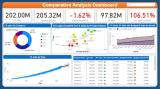

Layout of this report page (visuals, bound fields, positions):
{"tool":"powerbi","page":{"name":"Dashboard","canvas":[1280,720],"ordinal":0},"visuals":[{"type":"card","fields":{"Values":["Sales.YoY sales Growth%"]},"box":[1023.3,71.7,230,106.7],"z":0},{"type":"card","fields":{"Values":["Sales.CY sales"]},"box":[26.6,71.8,229.6,106.2],"z":1000},{"type":"card","fields":{"Values":["Sales.Budgeted Sales"]},"box":[275,71.7,230,106.7],"z":2000},{"type":"card","fields":{"Values":["Sales.Budget Variance%"]},"box":[525,71.7,230,106.7],"z":3000},{"type":"card","fields":{"Values":["Sales.PY sales"]},"box":[775,71.7,230,106.7],"z":4000},{"type":"slicer","fields":{"Values":["Date dim.Year","Date dim.Qtr","Date dim.Month"]},"box":[1004.3,17.2,248.3,43.7],"z":5000},{"type":"donutChart","fields":{"Y":["Sales.CY sales"],"Category":["Product Master.Category"]},"box":[26.8,189.3,382.1,241],"z":6000},{"type":"scatterChart","title":"YoY sales Growth% Vs CY sales by Product Name","fields":{"Y":["Sales.CY sales"],"X":["Sales.YoY sales Growth%"],"Category":["Product Master.Product Name"]},"box":[414.3,189.3,446,241],"z":7000},{"type":"areaChart","fields":{"Category":["Date dim.Month"],"Y":["Sales.CY sales","Sales.PY sales","Sales.Budgeted Sales"]},"box":[866.1,189.3,387.5,241],"z":8000},{"type":"lineChart","fields":{"Category":["Date dim.Date"],"Y":["Sales.CY sales"]},"box":[26.8,442.9,546.4,241.1],"z":9000},{"type":"pivotTable","fields":{"Rows":["Product Master.Category","Product Master.Product Name"],"Values":["Sales.CY sales","Sales.PY sales","Sales.YoY sales Growth%","Sales.Budgeted Sales","Sales.Budget Variance%"]},"box":[578.6,442.9,673.2,241.1],"z":10000}]}

Visuals, with their boxes in screenshot pixels (x1, y1, x2, y2), scaled from the page's 1280x720 canvas onto the 160x89 screenshot:
card - Sales.YoY sales Growth%: bbox(128, 9, 157, 22)
card - Sales.CY sales: bbox(3, 9, 32, 22)
card - Sales.Budgeted Sales: bbox(34, 9, 63, 22)
card - Sales.Budget Variance%: bbox(66, 9, 94, 22)
card - Sales.PY sales: bbox(97, 9, 126, 22)
slicer - Date dim.Year x Date dim.Qtr: bbox(126, 2, 157, 8)
donutChart - Sales.CY sales x Product Master.Category: bbox(3, 23, 51, 53)
"YoY sales Growth% Vs CY sales by Product Name" scatterChart: bbox(52, 23, 108, 53)
areaChart - Date dim.Month x Sales.CY sales: bbox(108, 23, 157, 53)
lineChart - Date dim.Date x Sales.CY sales: bbox(3, 55, 72, 85)
pivotTable - Product Master.Category x Product Master.Product Name: bbox(72, 55, 156, 85)
